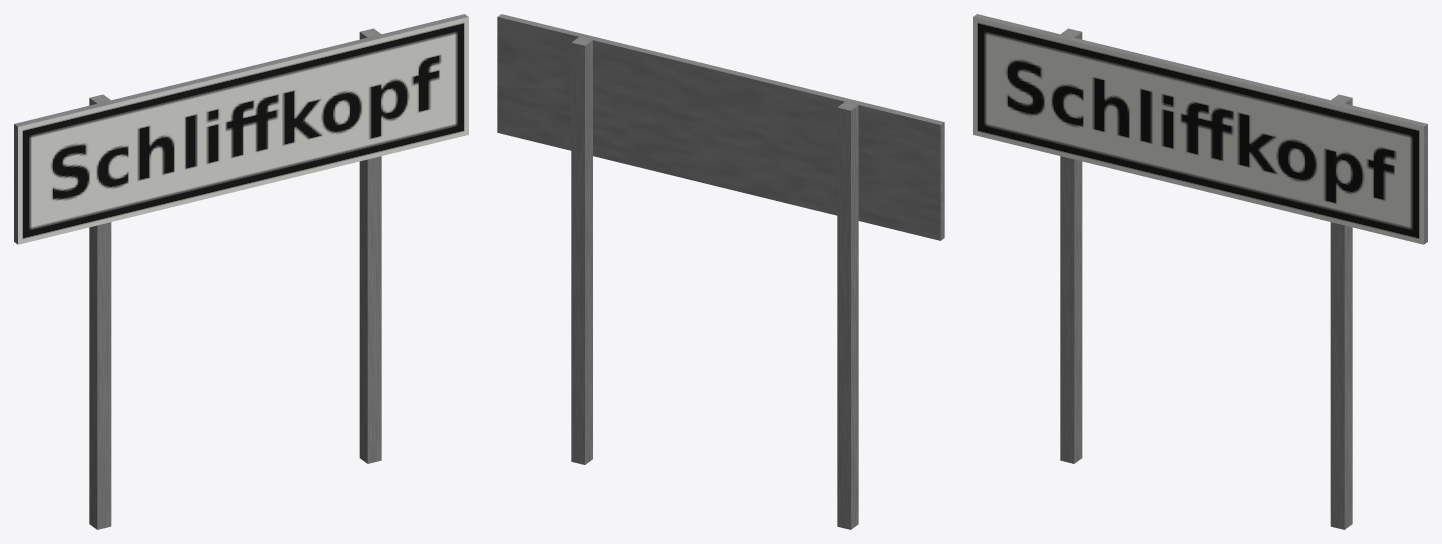
The model's file is SM_sign_place_07.fbx.
3 renders of one model, left to right at view 1: azimuth 30°, elevation 25°; view 2: azimuth 150°, elevation 25°; view 3: azimuth 330°, elevation 25°, orthographic.
Visible parts, largest first — view 1: SM_sign_place_07; view 2: SM_sign_place_07; view 3: SM_sign_place_07.
Part boxes in pixels (bbox=[...]): SM_sign_place_07: bbox=[14, 14, 468, 529]; SM_sign_place_07: bbox=[497, 14, 944, 529]; SM_sign_place_07: bbox=[973, 14, 1427, 529].
Size of the model in its own units: 2.6 by 2.35 by 0.12.
